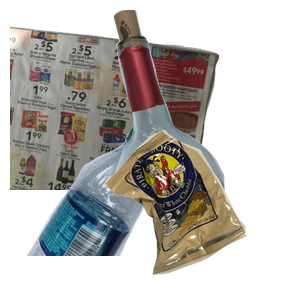glass: (89, 10, 300, 190)
paper: (10, 21, 222, 201)
plastic: (24, 120, 182, 300)
trash: (101, 127, 300, 300)
